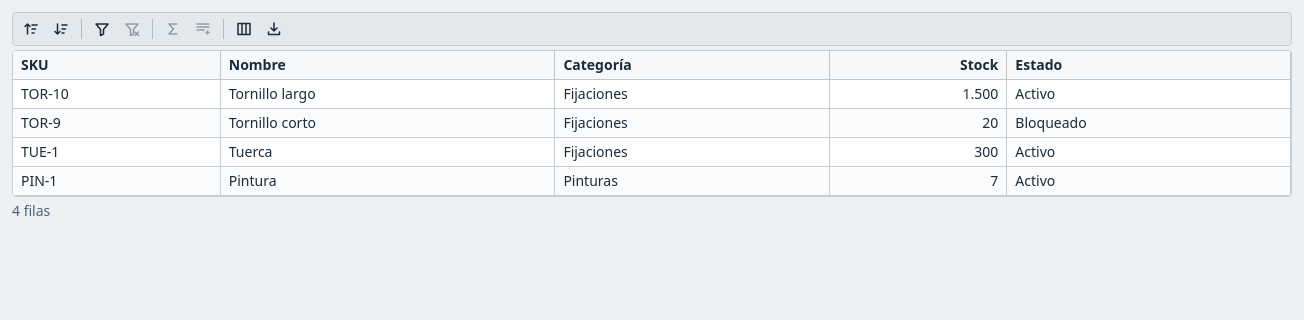
Scenario: DataGrid en modo local › suma la columna con Σ y agrega subtotales por la columna elegida
The width and height of the screenshot is (1304, 320).
Click the cell "1.500": [918, 94] box x1=830 y1=80 x2=1007 y2=109
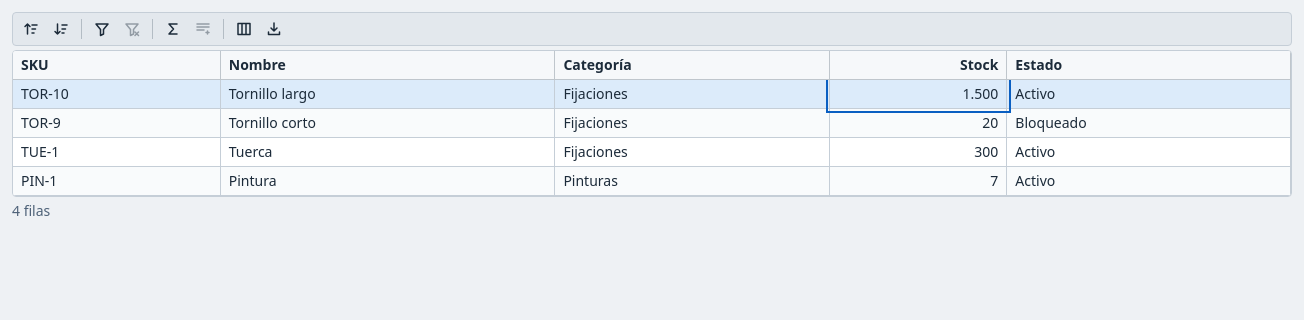
Click the button named "Total (Stock)": [173, 29] box x1=159 y1=15 x2=187 y2=43
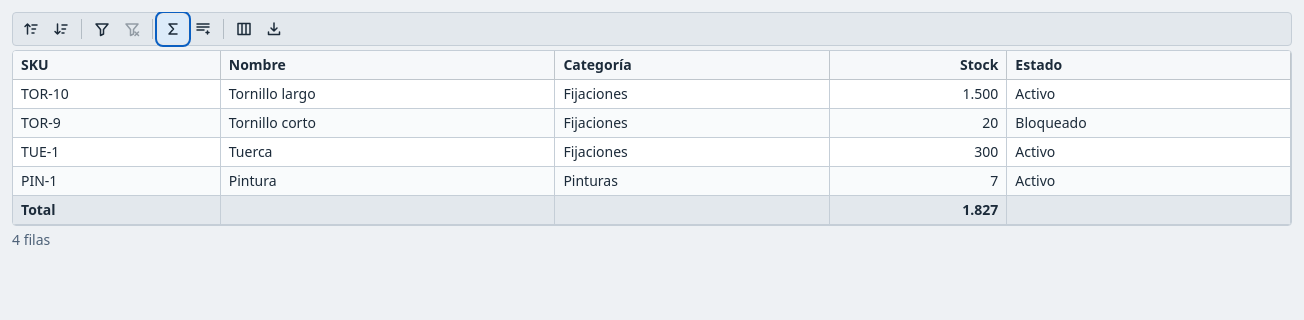
Click the cell "Pinturas": [692, 182] box x1=555 y1=167 x2=830 y2=196
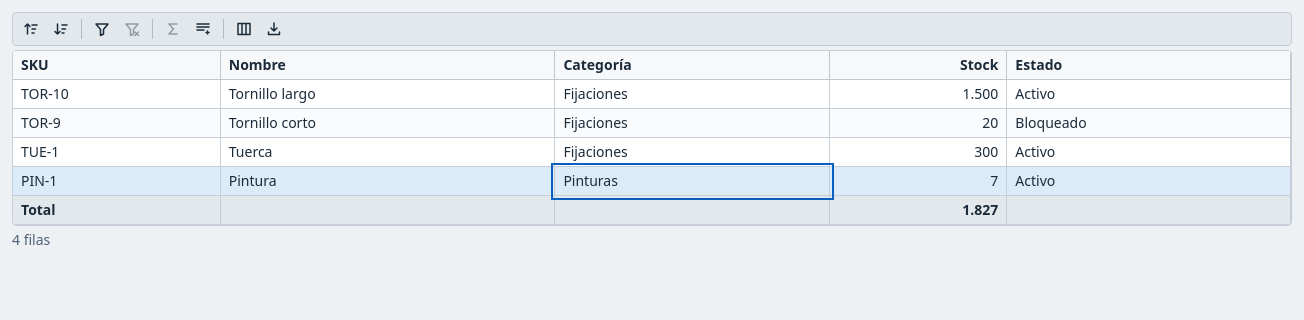
Click the button named "Subtotales (Categoría)": [203, 29] box x1=189 y1=15 x2=217 y2=43
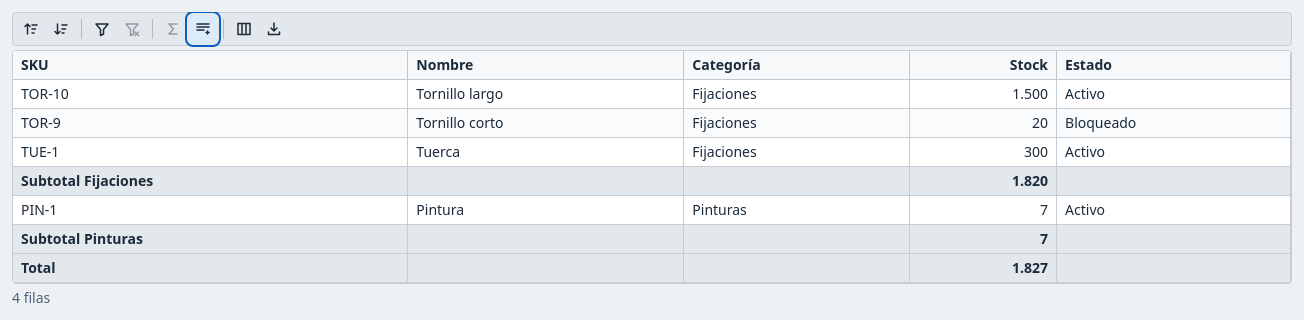
Check: the cell "Subtotal Fijaciones" is shown, box x1=13 y1=167 x2=408 y2=196
Check: the cell "Subtotal Pinturas" is shown, box x1=13 y1=225 x2=408 y2=254
